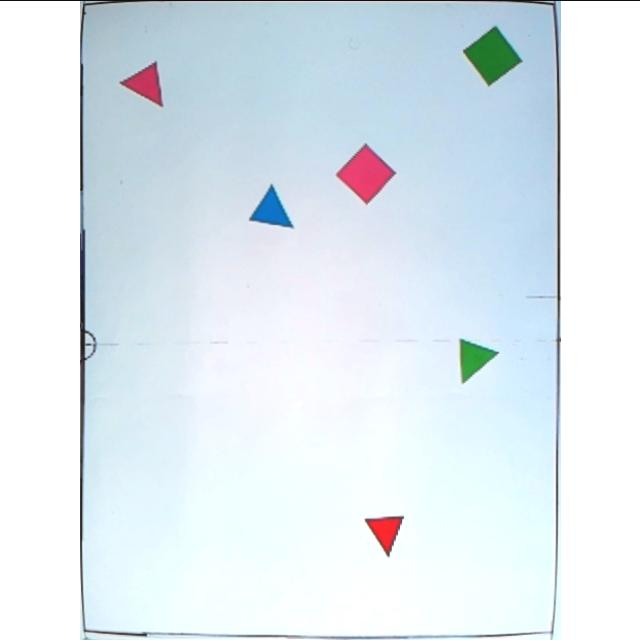blueTriangle: (246, 183, 294, 230)
greenSquare: (461, 26, 523, 88)
greenTriangle: (455, 338, 499, 384)
pinkSquare: (333, 141, 395, 205)
pinkTriangle: (115, 59, 168, 109)
redTriangle: (362, 514, 411, 558)
